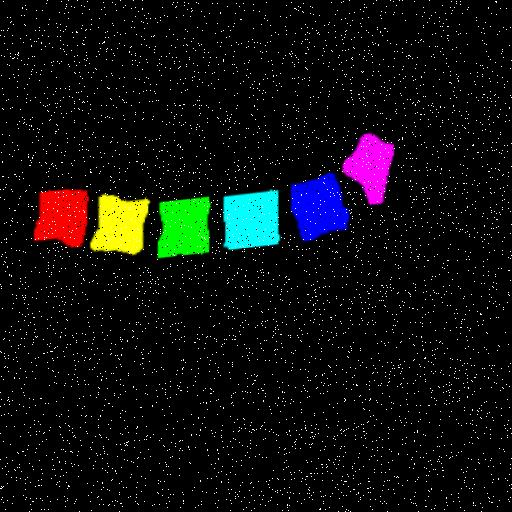L1: (40, 188, 91, 246)
L2: (96, 194, 152, 253)
L3: (163, 197, 214, 257)
L4: (228, 191, 283, 250)
L5: (295, 175, 352, 242)
S1: (346, 136, 397, 205)
